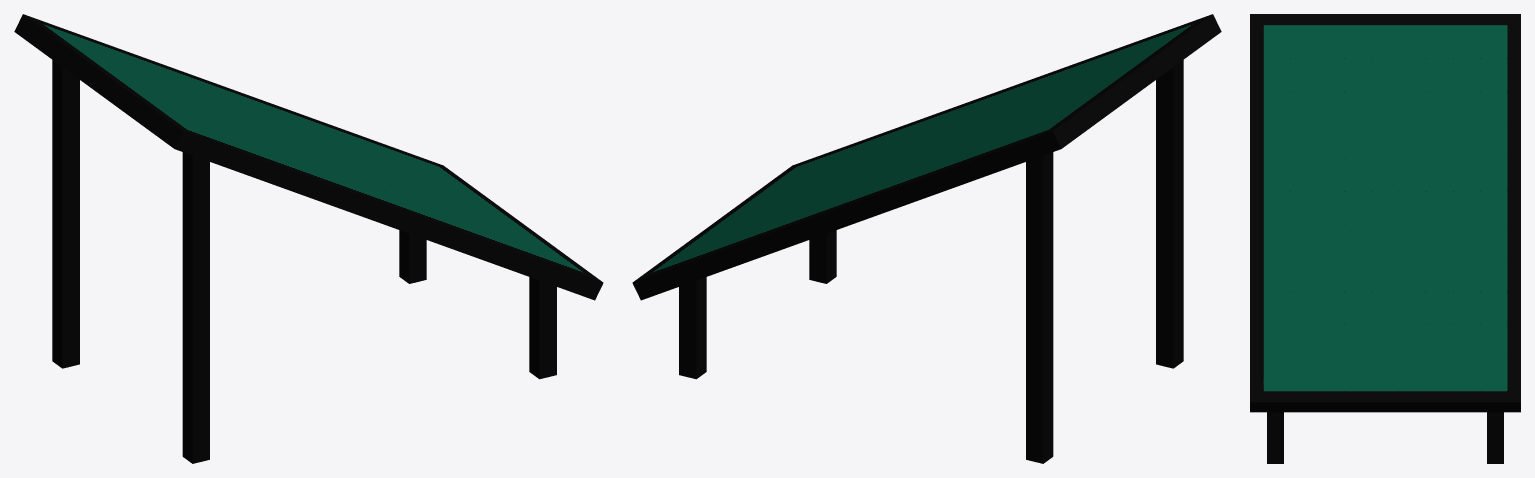
The picture shows the model from 3 angles, left to right: view 1: azimuth 30°, elevation 25°; view 2: azimuth 150°, elevation 25°; view 3: azimuth 270°, elevation 25°; orthographic projection. The views are drawn at different scales.
Visible parts, largest first — view 1: PV, 03; view 2: PV, 03; view 3: PV, 03.
Boxes of the visible parts, box(x1,y1,x2,y2) form: PV: box(14, 14, 603, 300); 03: box(52, 60, 556, 463); PV: box(632, 14, 1221, 300); 03: box(679, 60, 1183, 463); PV: box(1250, 14, 1520, 412); 03: box(1267, 412, 1503, 463).
Size of the model in its own units: 2.47 by 1.9 by 1.6.
